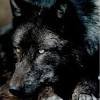Lobo: (4, 4, 94, 96)
